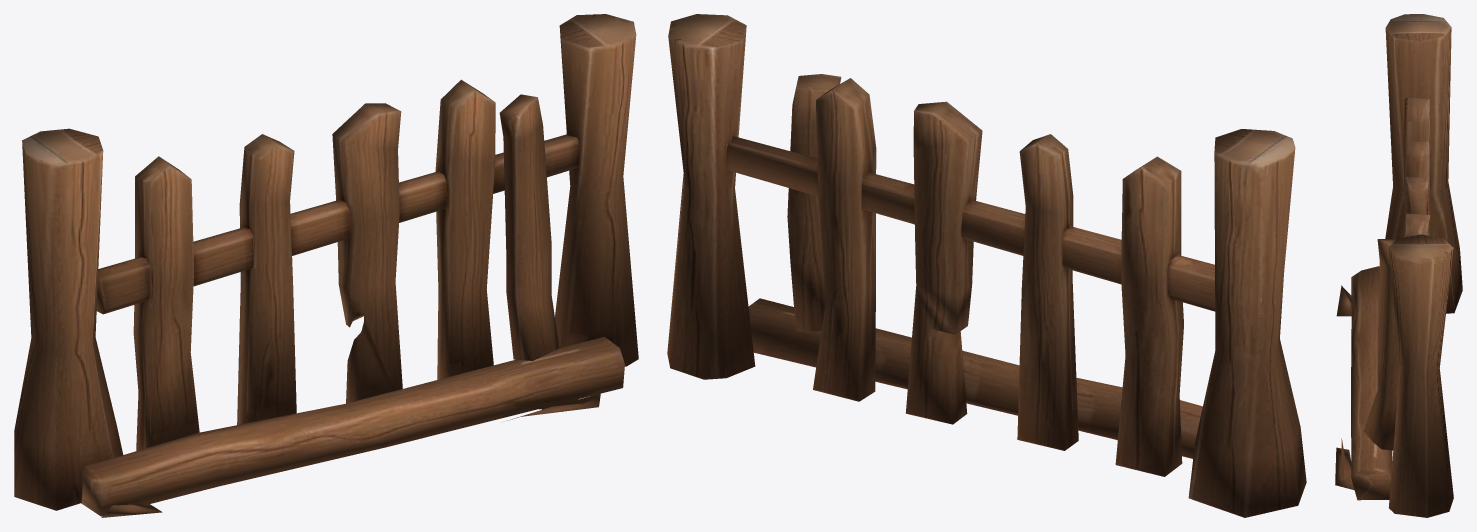
File: fence.glb
The picture shows the model from 3 angles, left to right: view 1: azimuth 30°, elevation 25°; view 2: azimuth 150°, elevation 25°; view 3: azimuth 270°, elevation 25°; orthographic projection. The views are drawn at different scales.
Size of the model in its own units: 0.96 by 0.5122 by 0.2163.
1 material, 1 textured.
